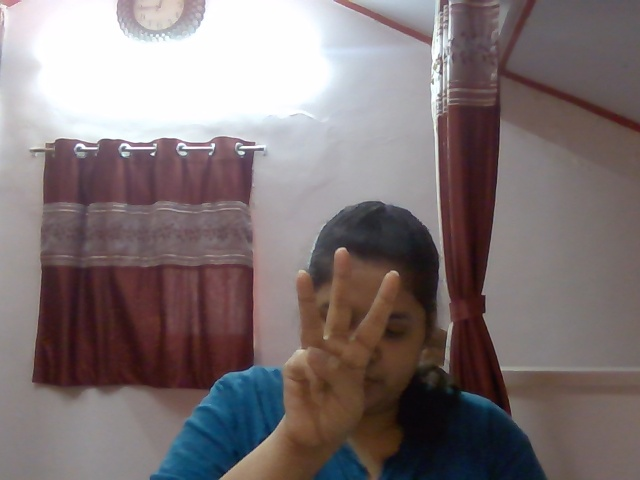w: (235, 243, 423, 449)
